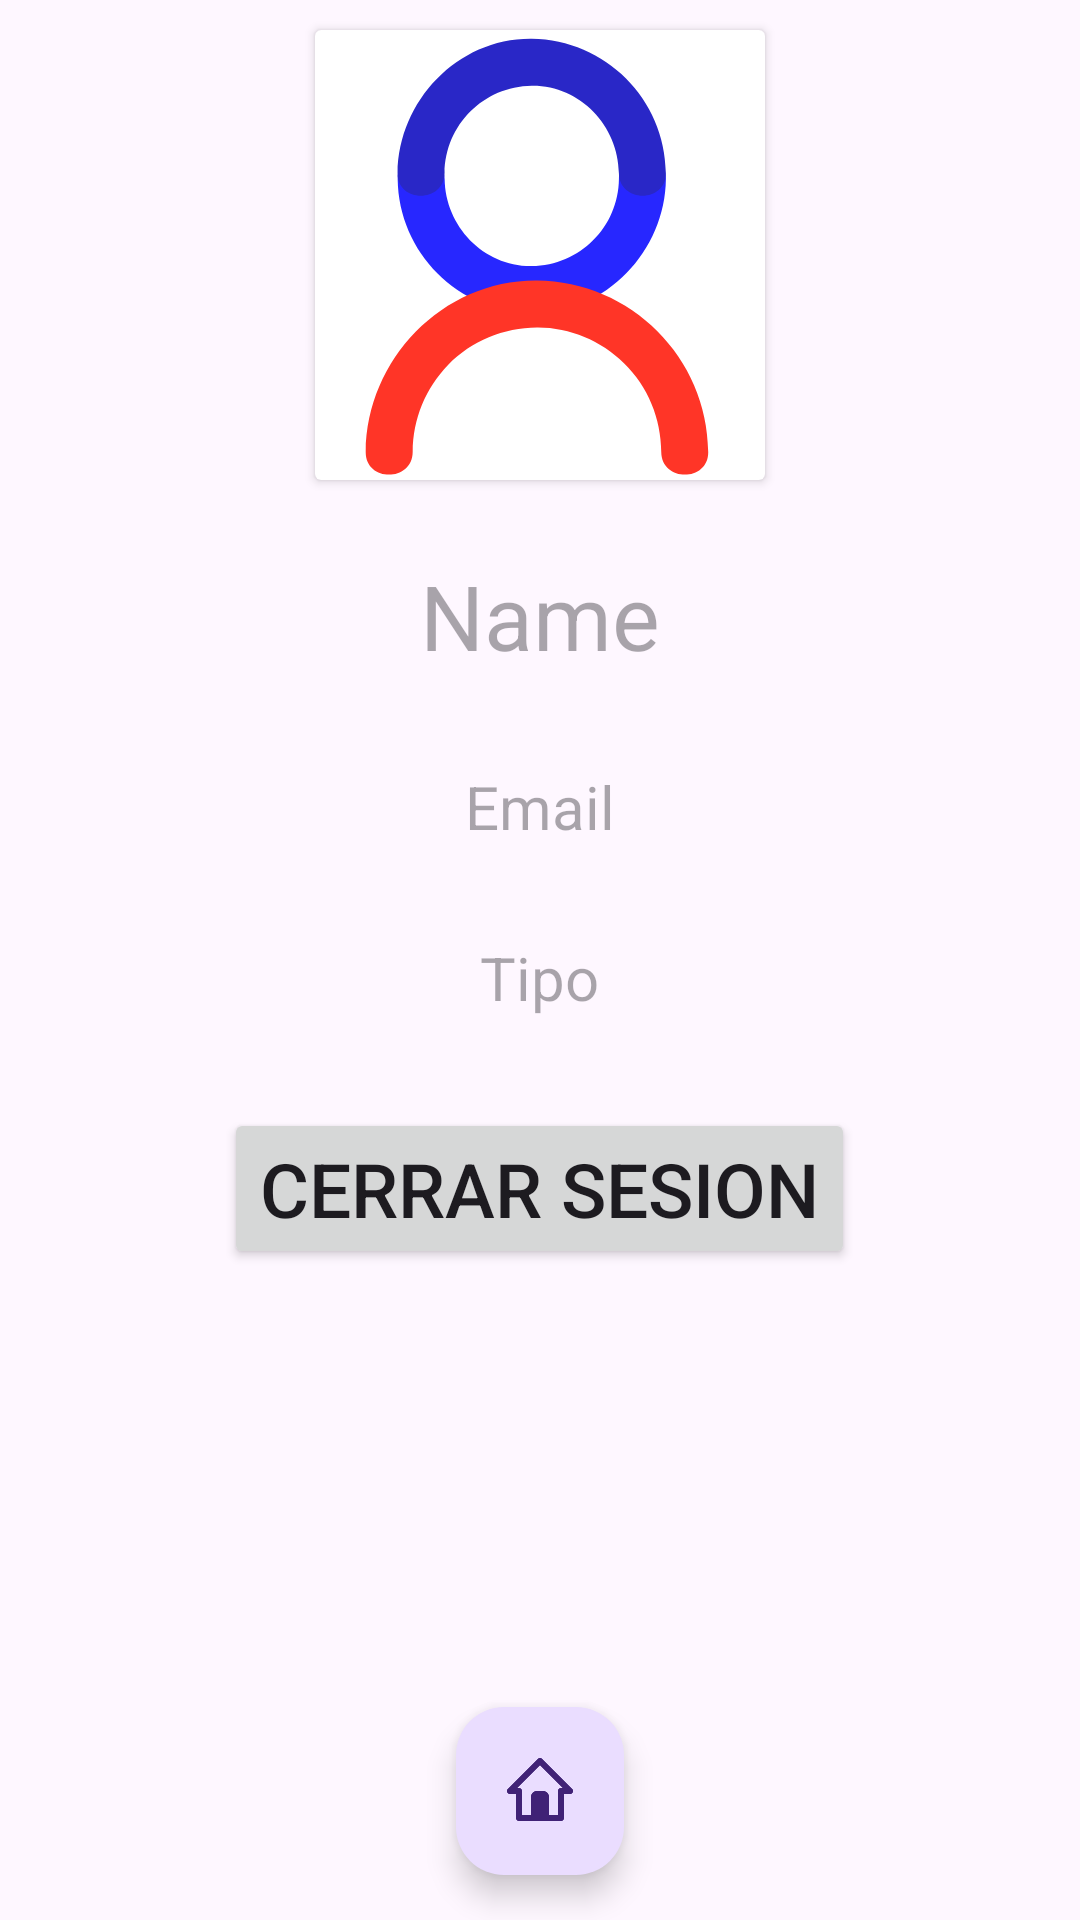

Screen size 1080px×1920px. Icon name, then its center in pixels as point (x, y):
manage home: point (540, 1791)
